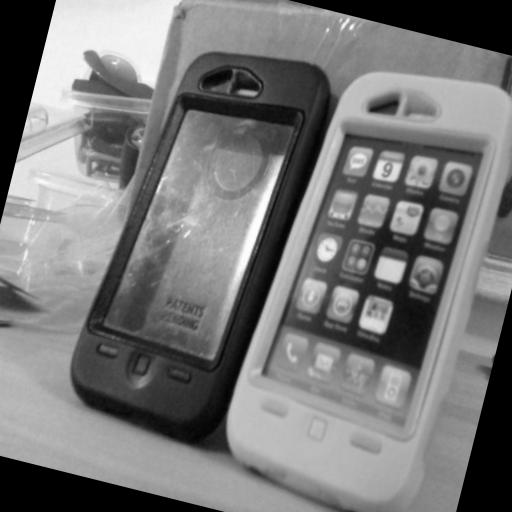phone: (226, 69, 512, 512)
